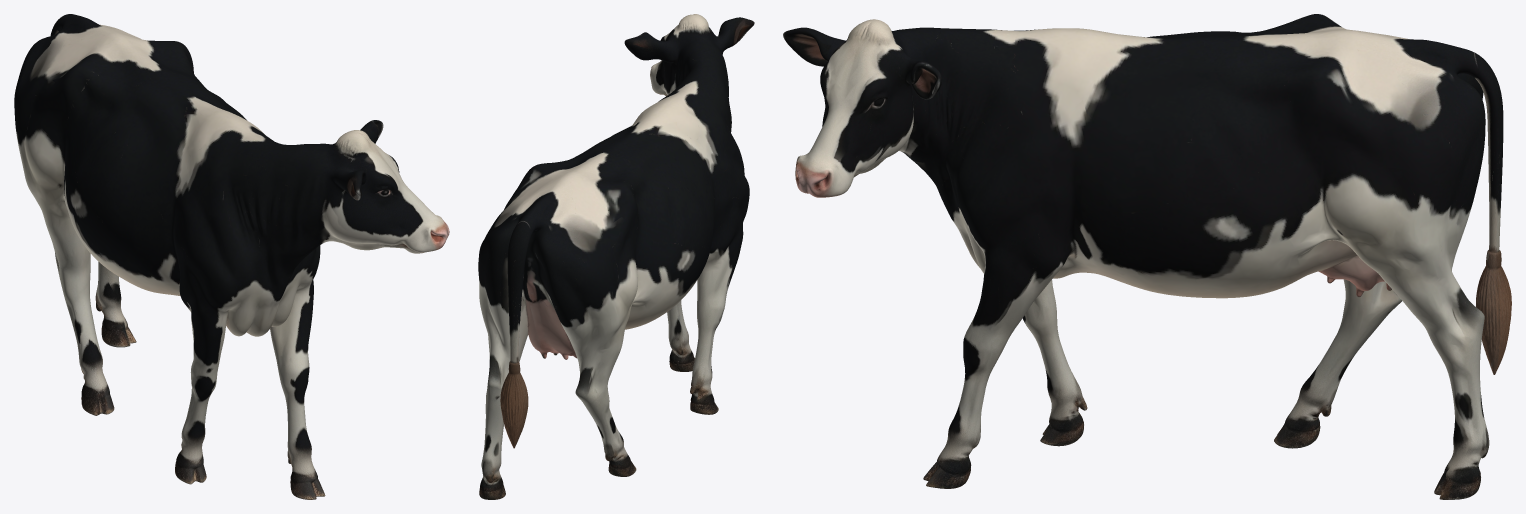
File: holstein-cow.glb
3 renders of one model, left to right at view 1: azimuth 30°, elevation 25°; view 2: azimuth 150°, elevation 25°; view 3: azimuth 270°, elevation 25°, orthographic. The views are drawn at different scales.
Size of the model in its own units: 0.7659 by 1.36 by 1.9.
1 material, 1 textured.
